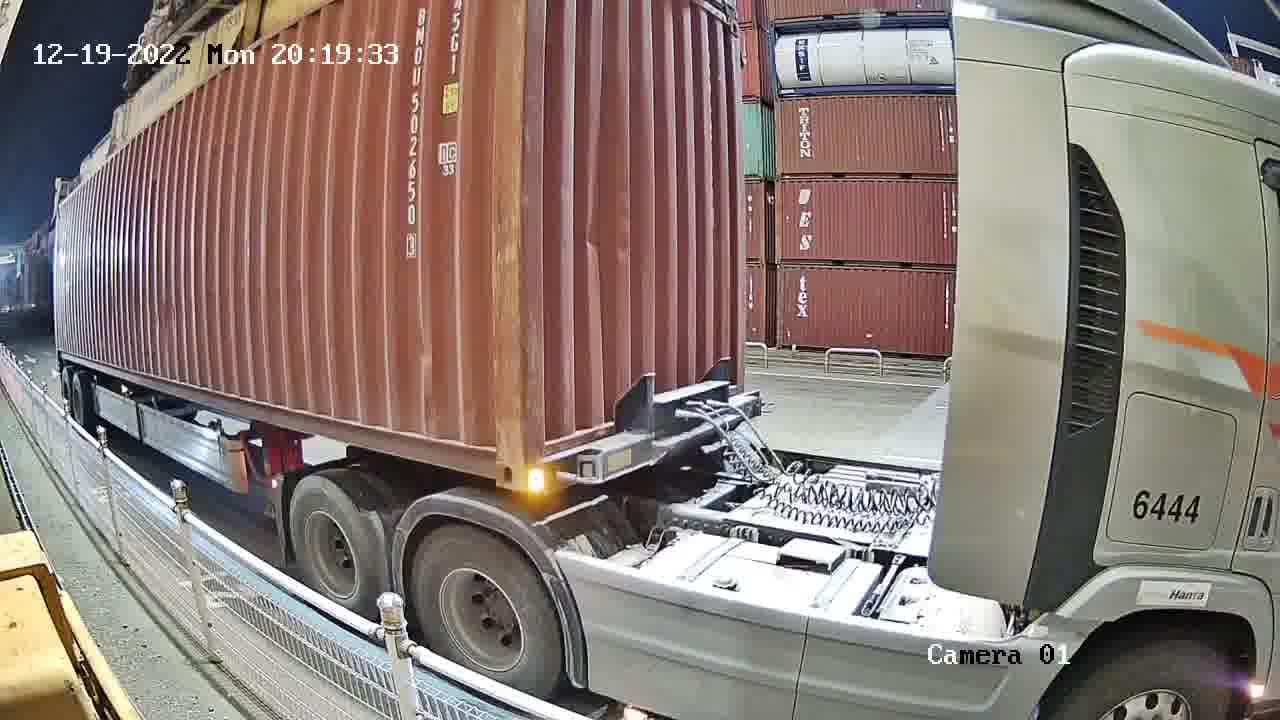Chassis: (521, 393, 764, 495)
Hole_R: (466, 419, 523, 492)
Tire: (410, 527, 561, 697), (288, 476, 377, 614)
